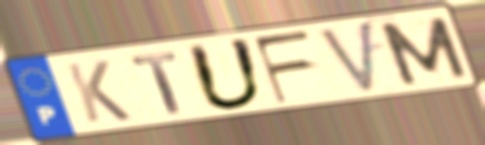F: (250, 28, 318, 107)
K: (62, 58, 135, 125)
M: (373, 14, 473, 88)
T: (127, 49, 185, 116)
U: (183, 36, 268, 113)
V: (314, 18, 377, 97)
